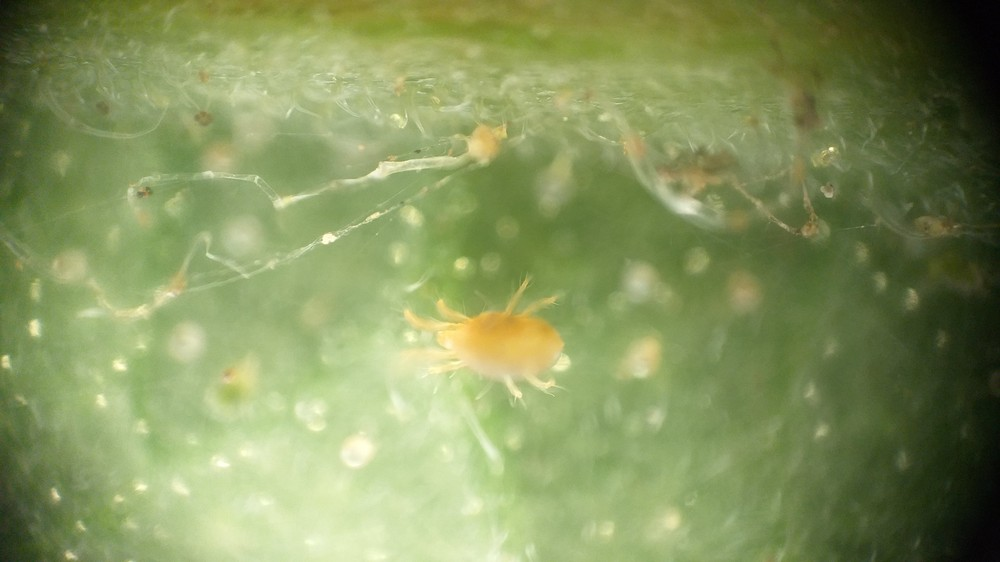Aracnido Rojo: (379, 274, 604, 411)
